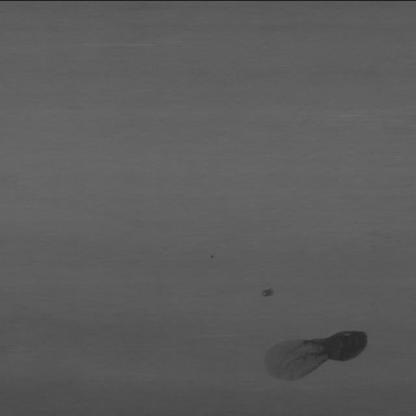oil_spot: (257, 327, 374, 383), (255, 284, 279, 298)
